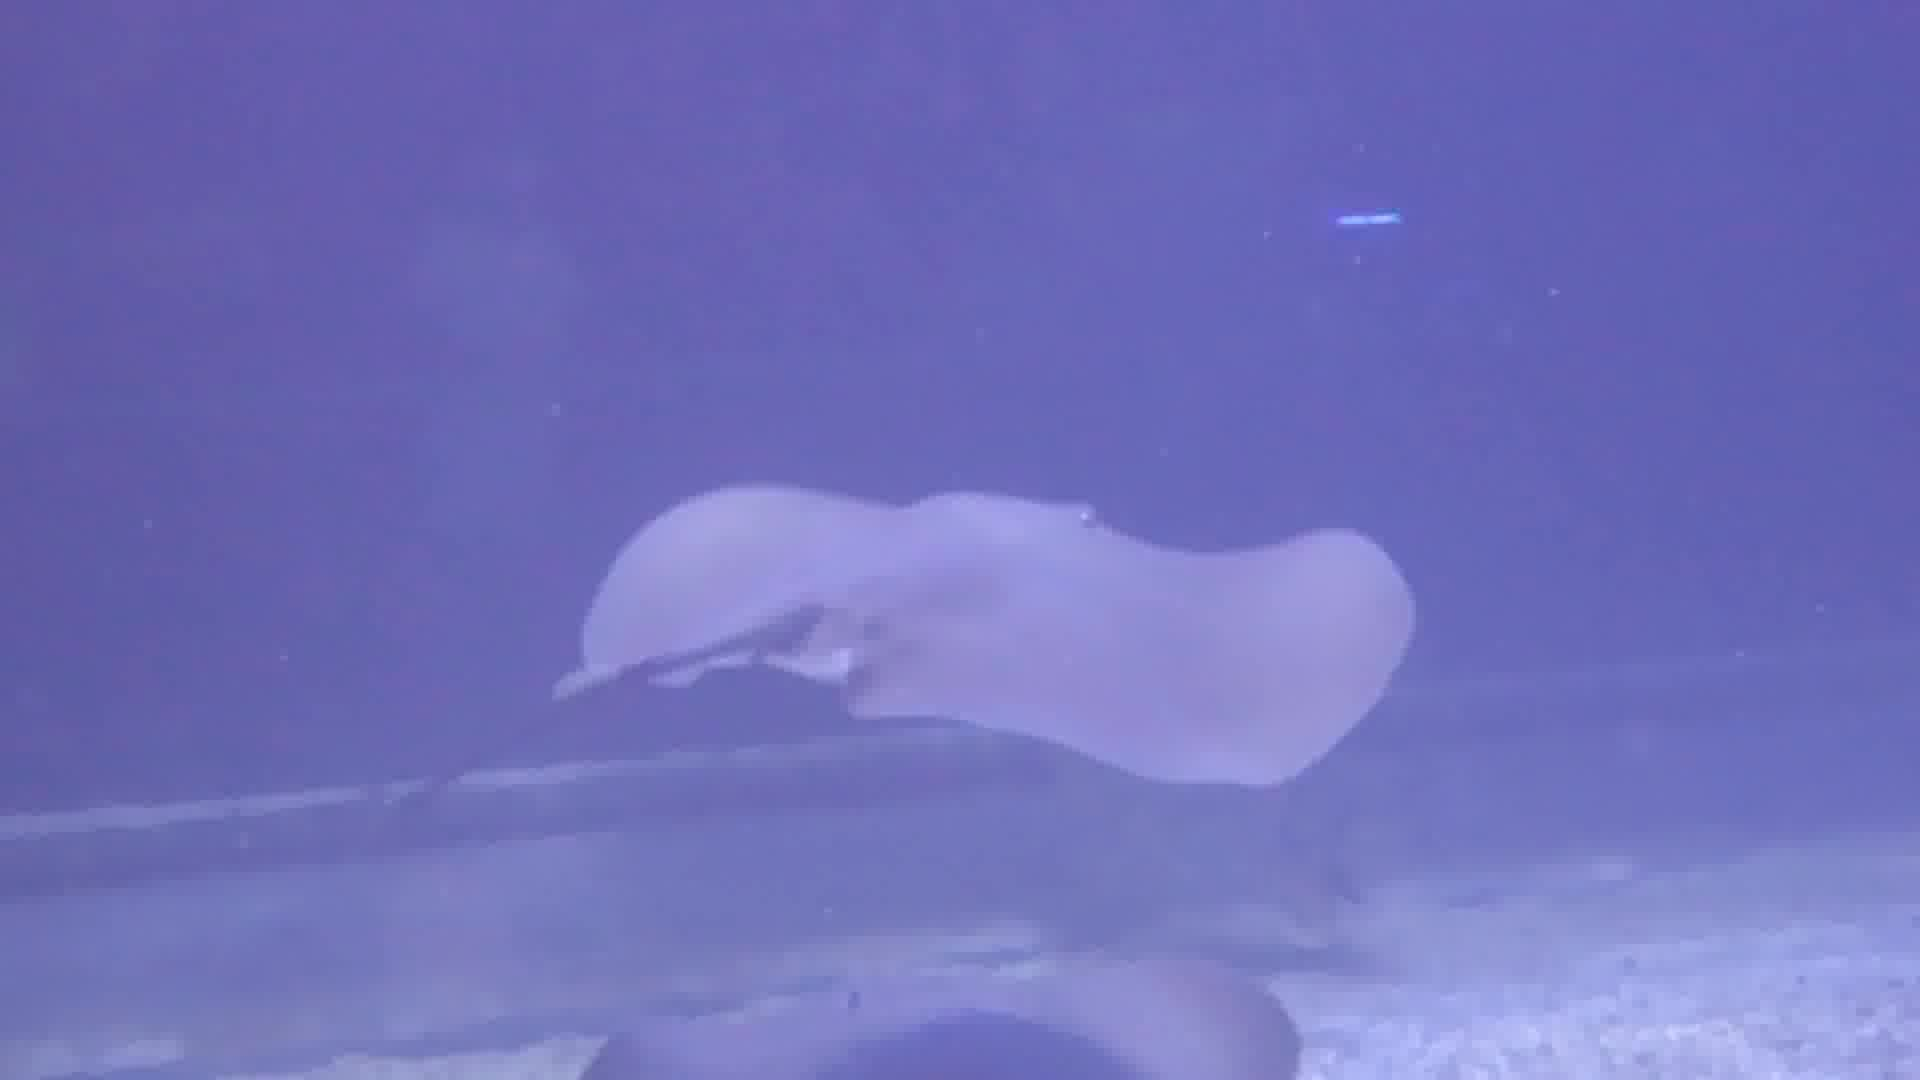Dasyatis akajei: (419, 355, 1420, 920)
